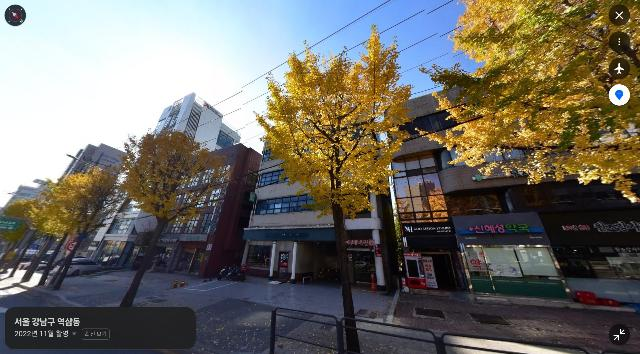ginkgo: (253, 24, 416, 354), (414, 0, 640, 203), (114, 124, 235, 308), (20, 165, 123, 290), (0, 197, 52, 281)
